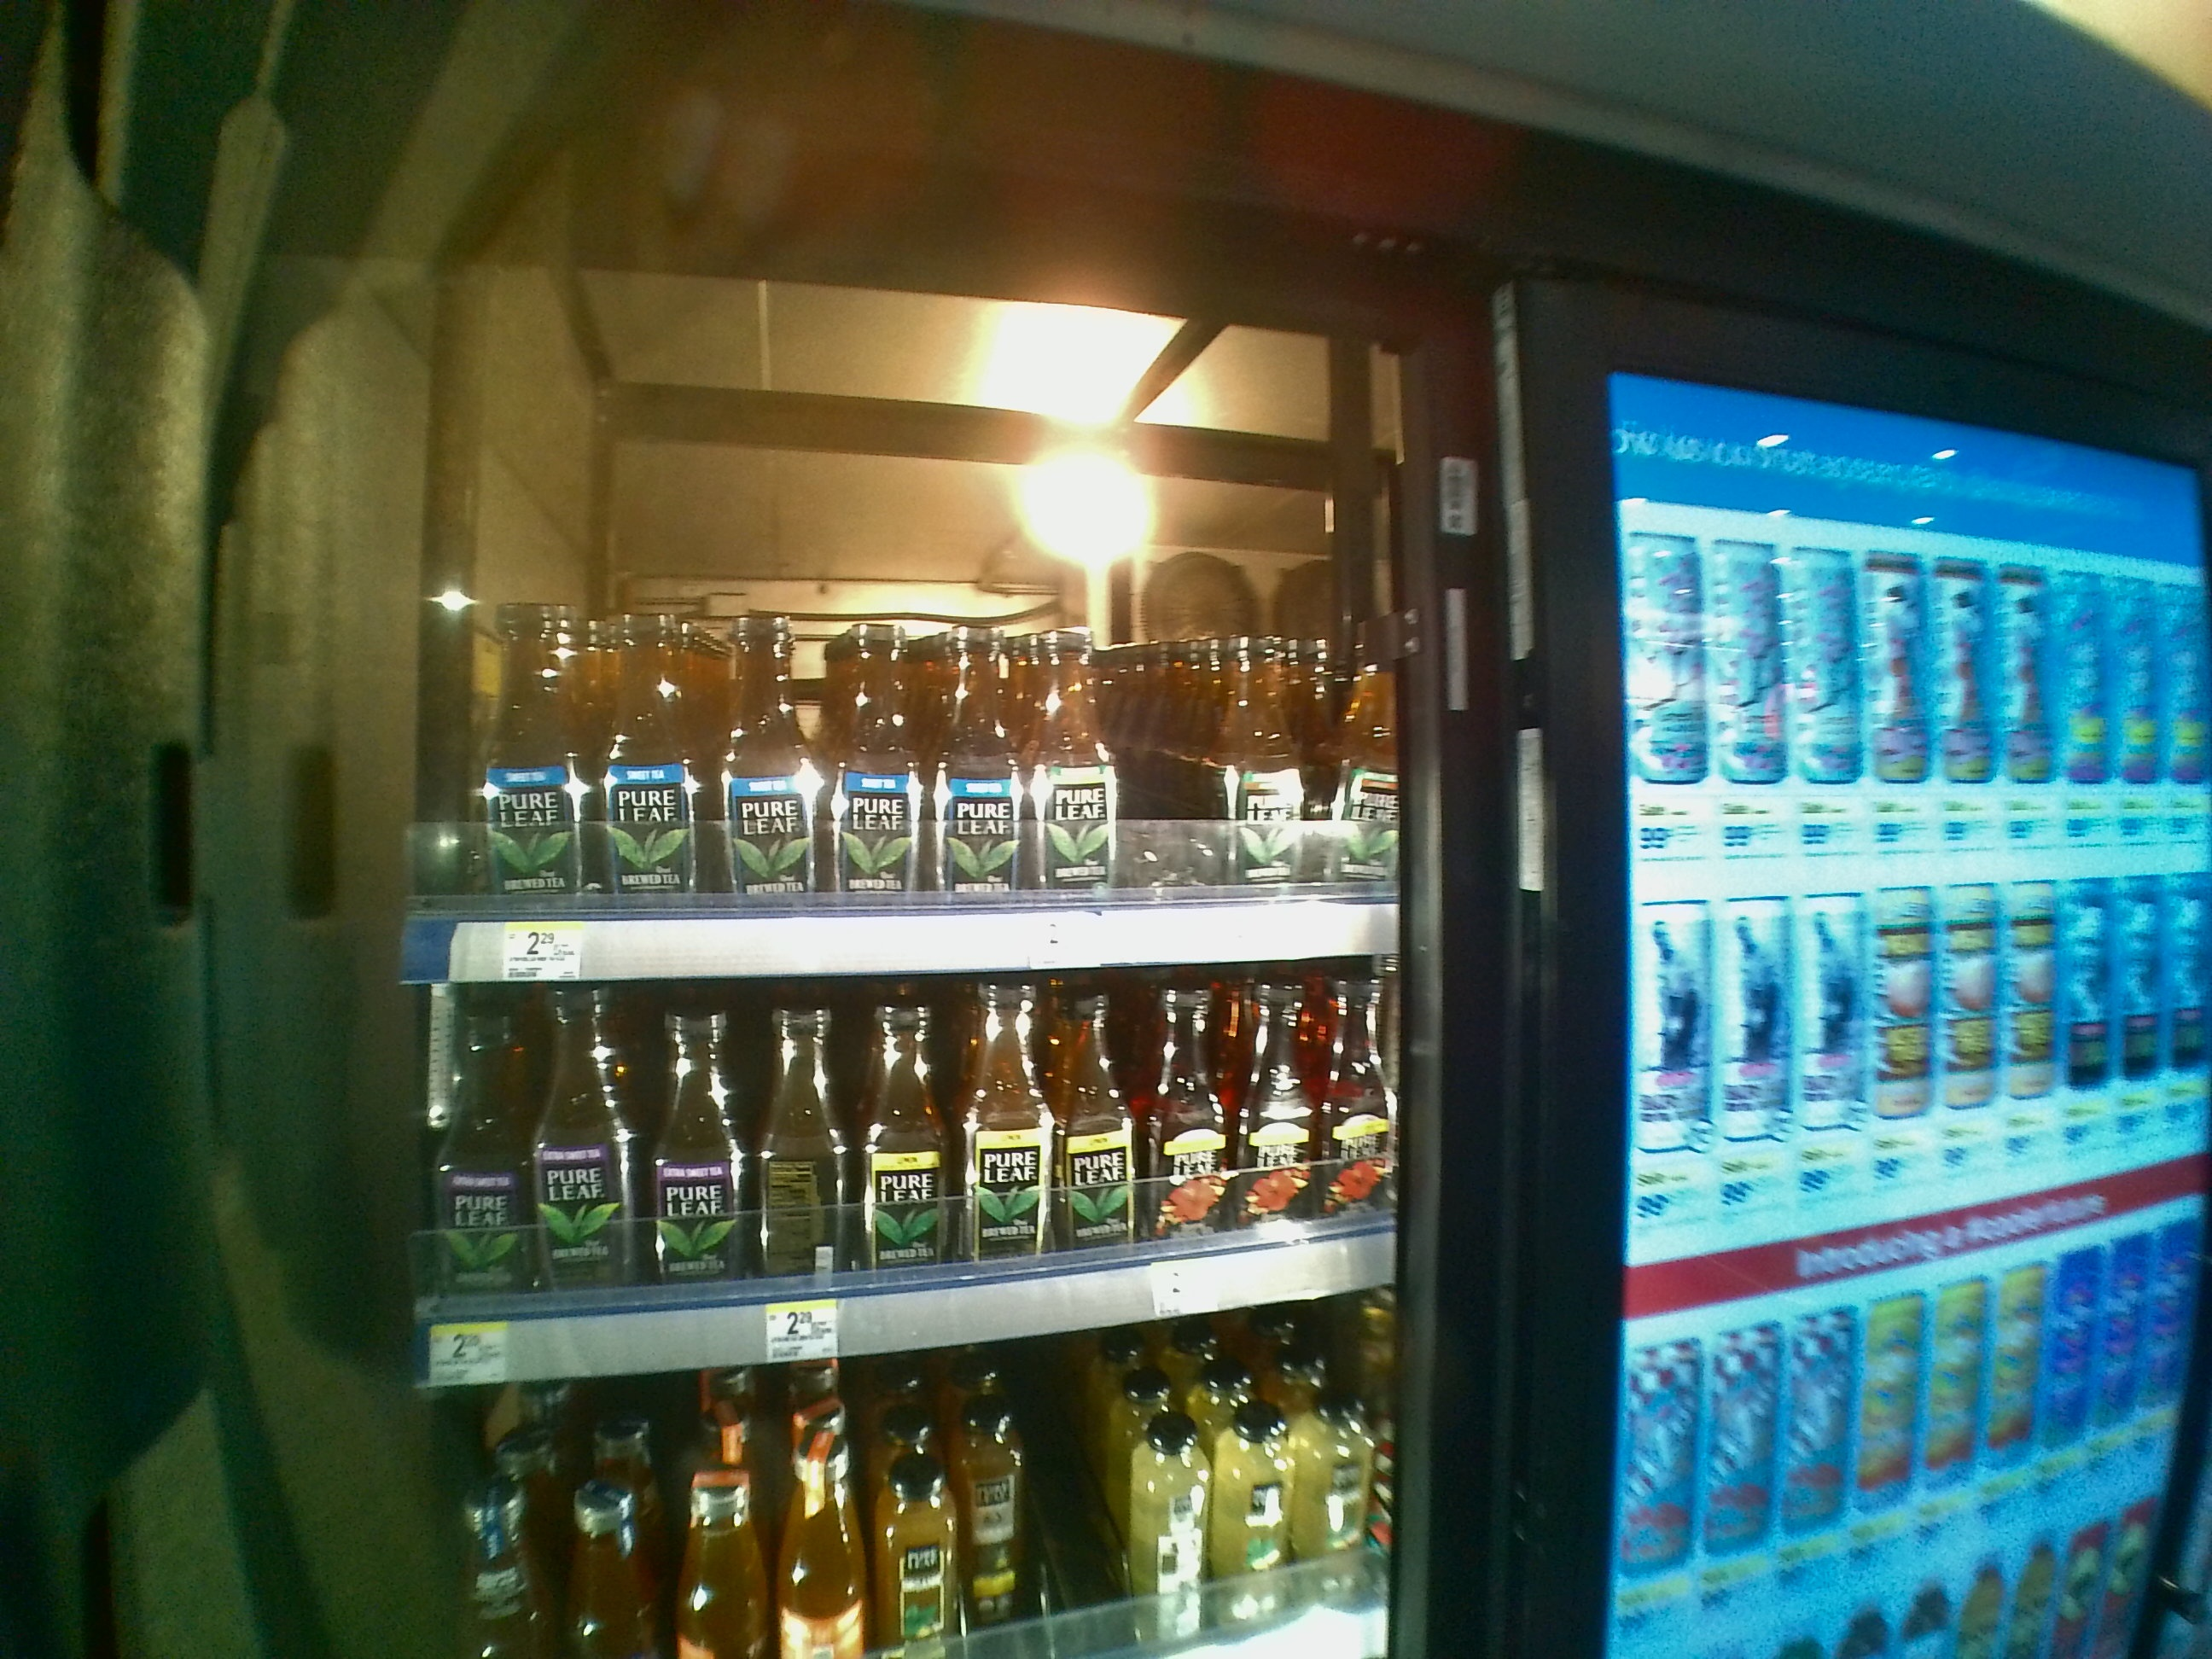shelf: (392, 345, 1399, 979), (392, 993, 1404, 1384)
